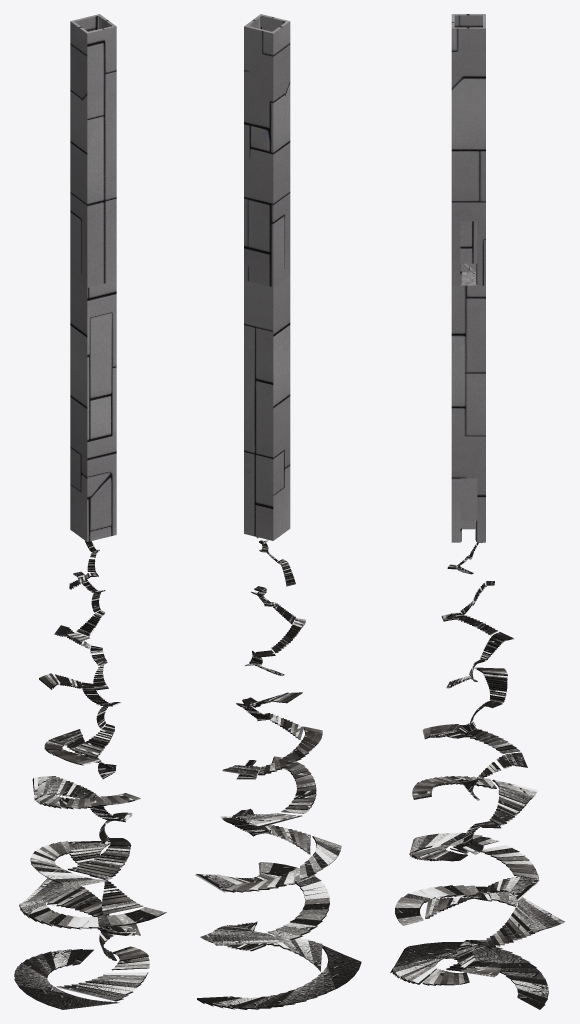
The model's file is stairs 1 v2.glb.
3 views of the same model, side by side, from view 1: azimuth 30°, elevation 25°; view 2: azimuth 150°, elevation 25°; view 3: azimuth 270°, elevation 25° (orthographic).
Parts seen in each view (by area): view 1: walls, stairs under; view 2: walls, stairs under; view 3: stairs under, walls.
Boxes of the visible parts, x1,y1,x2,y2 form: walls: (70, 14, 116, 541); stairs under: (14, 541, 166, 1009); walls: (244, 14, 290, 540); stairs under: (195, 539, 361, 1009); stairs under: (390, 542, 564, 1009); walls: (451, 14, 485, 542).
Bounding box in the file's own units: 22.76 × 163 × 26.64.
5 materials, 5 textured.
